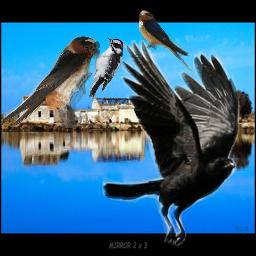Crow: (102, 40, 242, 250)
Swallow: (1, 36, 100, 128), (138, 10, 196, 75)
Woodpecker: (88, 37, 123, 99)
